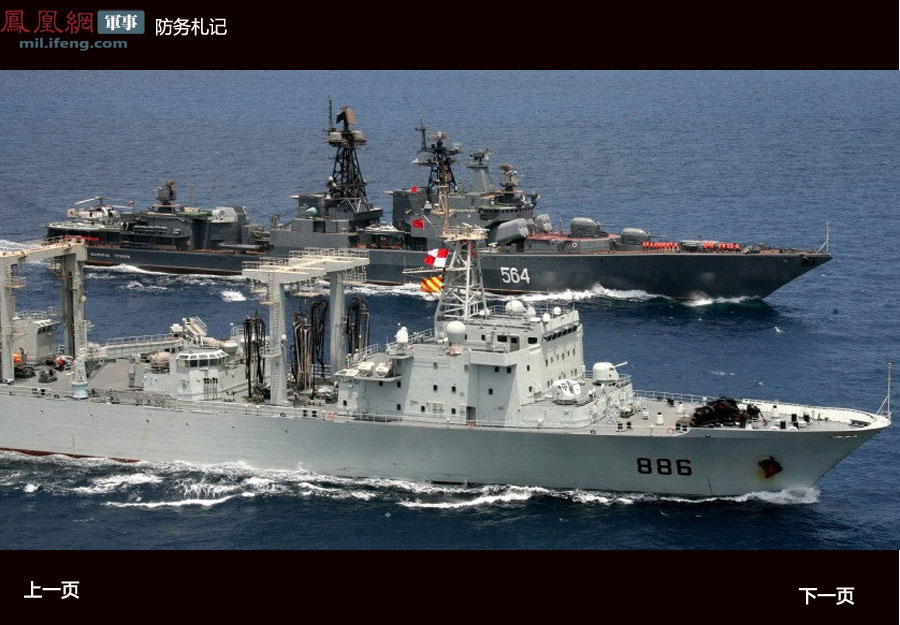warship: (1, 228, 894, 510), (28, 94, 845, 315)
